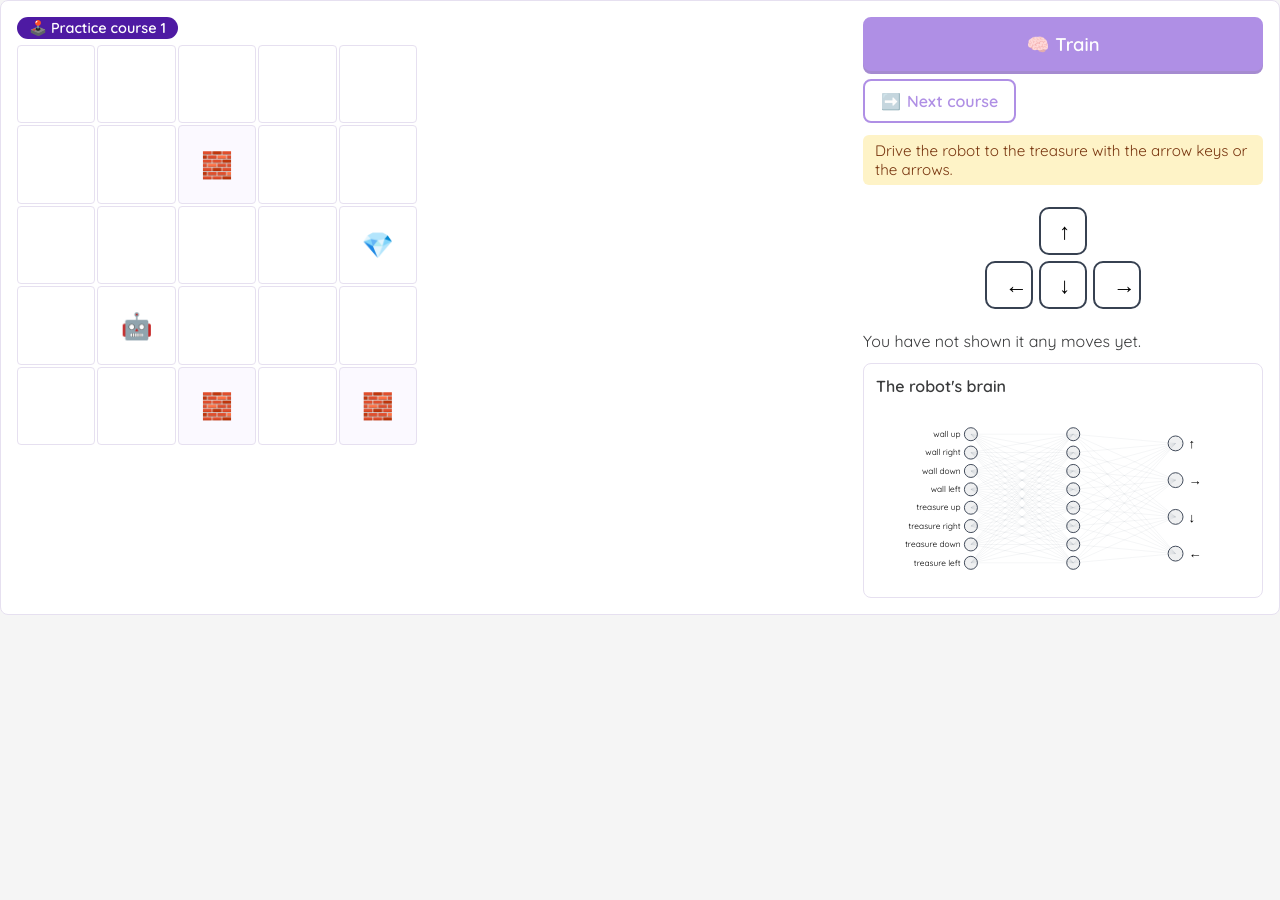
Test: copy-bot screen › records each arrow press, by buttons and by keys, and counts them
Click the button with test id "ga-drive-right". click: (1117, 285)
box: x1=1093 y1=261 x2=1141 y2=309
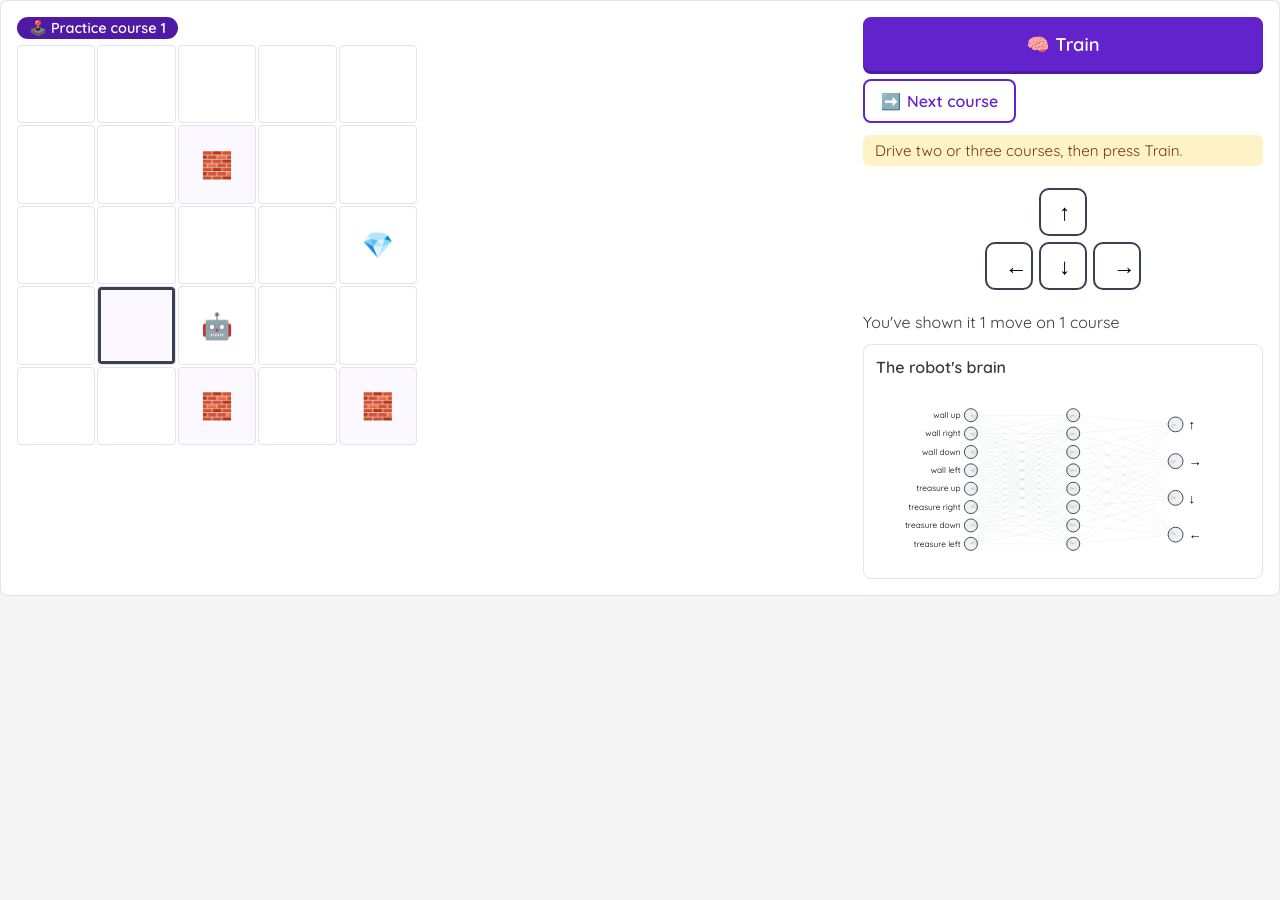
Press ArrowDown
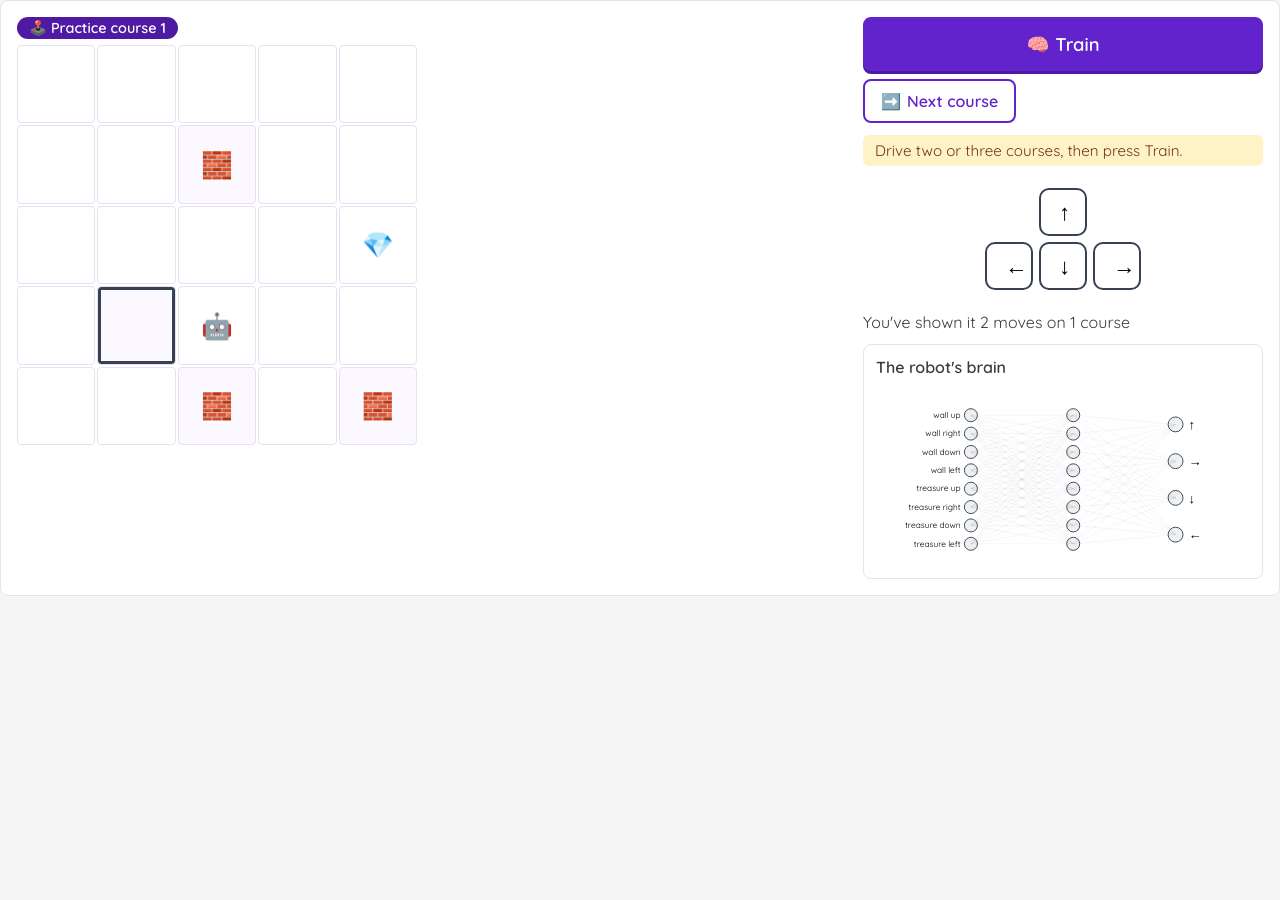
Expected: the message with test id "ga-examples" reads "You've shown it 2 moves on 1 course", x1=863 y1=312 x2=1130 y2=332
